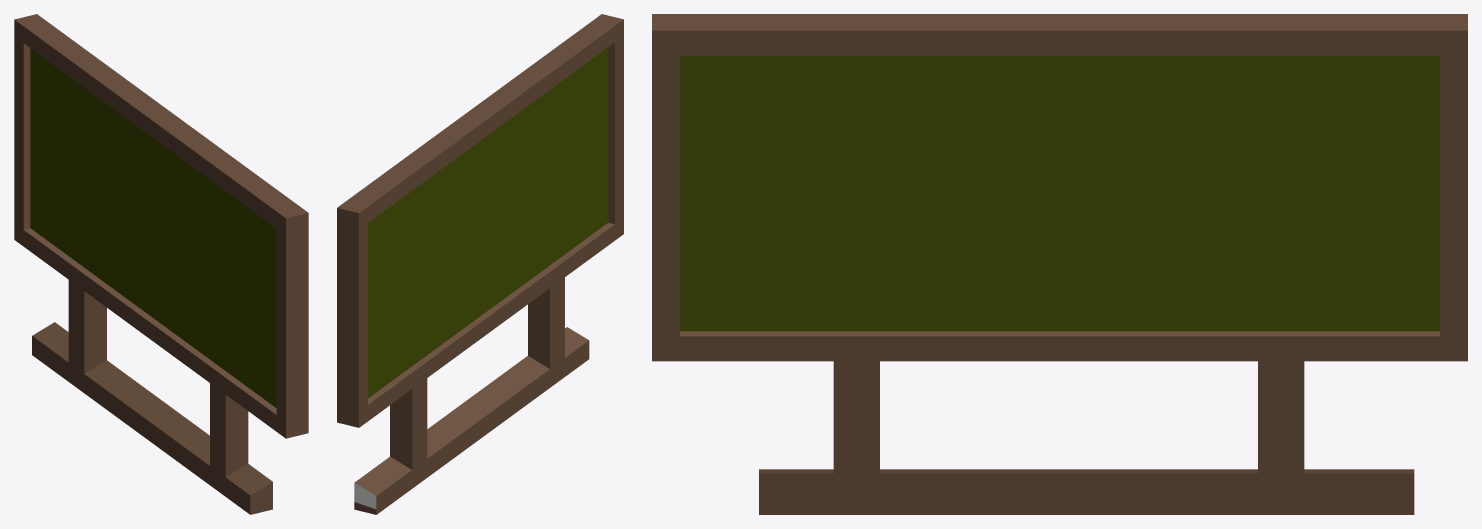
File: Board.fbx
3 renders of one model, left to right at view 1: azimuth 30°, elevation 25°; view 2: azimuth 150°, elevation 25°; view 3: azimuth 270°, elevation 25°, orthographic. The views are drawn at different scales.
Parts seen in each view (by area): view 1: Box138; view 2: Box138; view 3: Box138.
Part boxes in pixels (left/top/right/bottom): Box138: left=14, top=14, right=308, bottom=514; Box138: left=337, top=14, right=623, bottom=514; Box138: left=652, top=14, right=1467, bottom=514.
Bounding box in the file's own units: 19.51 × 265 × 405.
Materials: 2 (2 with a texture image).
